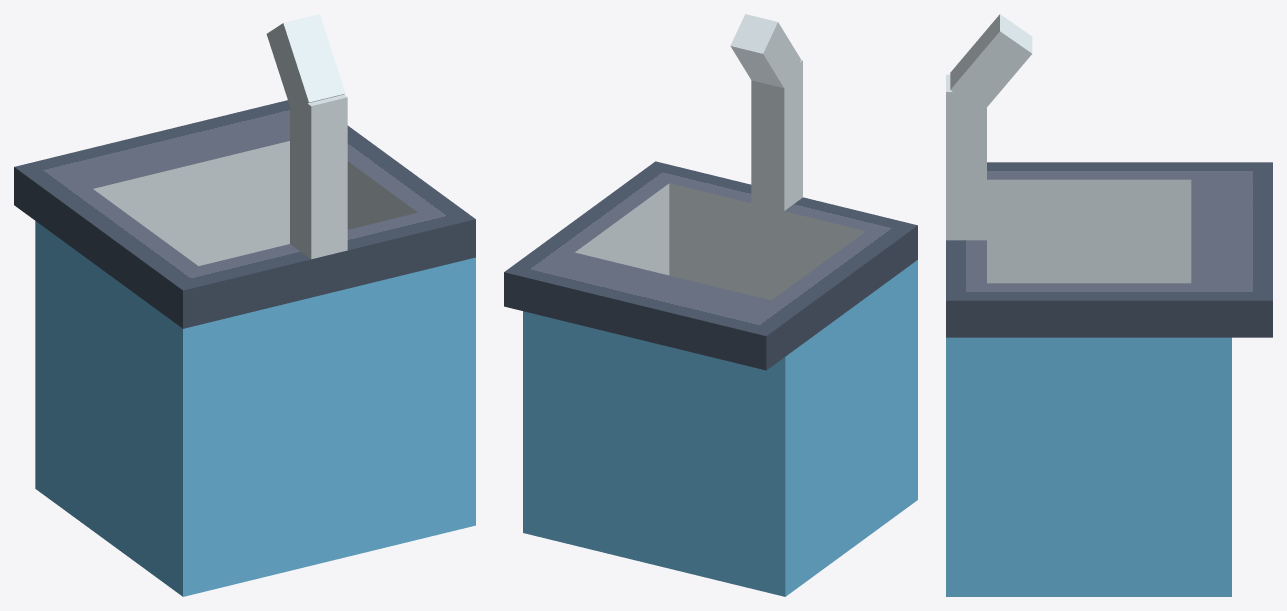
Rendered from cleansink.gltf.
The picture shows the model from 3 angles, left to right: view 1: azimuth 30°, elevation 25°; view 2: azimuth 150°, elevation 25°; view 3: azimuth 270°, elevation 25°; orthographic projection. The views are drawn at different scales.
Parts seen in each view (by area): view 1: base, top, tap, basin; view 2: base, top, tap, basin; view 3: base, top, basin, tap.
Boxes of the visible parts, bbox=[...] form: base: bbox=[35, 221, 475, 596]; top: bbox=[14, 100, 475, 328]; tap: bbox=[266, 14, 347, 259]; basin: bbox=[132, 179, 378, 266]; base: bbox=[523, 260, 917, 596]; top: bbox=[504, 161, 917, 370]; tap: bbox=[730, 14, 802, 210]; basin: bbox=[610, 217, 830, 300]; base: bbox=[946, 337, 1231, 596]; top: bbox=[946, 162, 1272, 337]; basin: bbox=[987, 216, 1191, 283]; tap: bbox=[946, 14, 1032, 240].
Size of the model in its own units: 1 by 1.71 by 1.
Materials: 1 (1 with a texture image).
